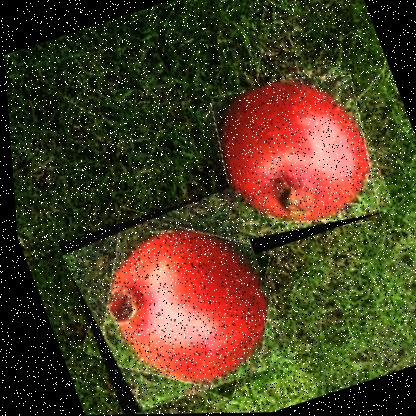pomegranate: (50, 187, 293, 415), (193, 61, 395, 256)
